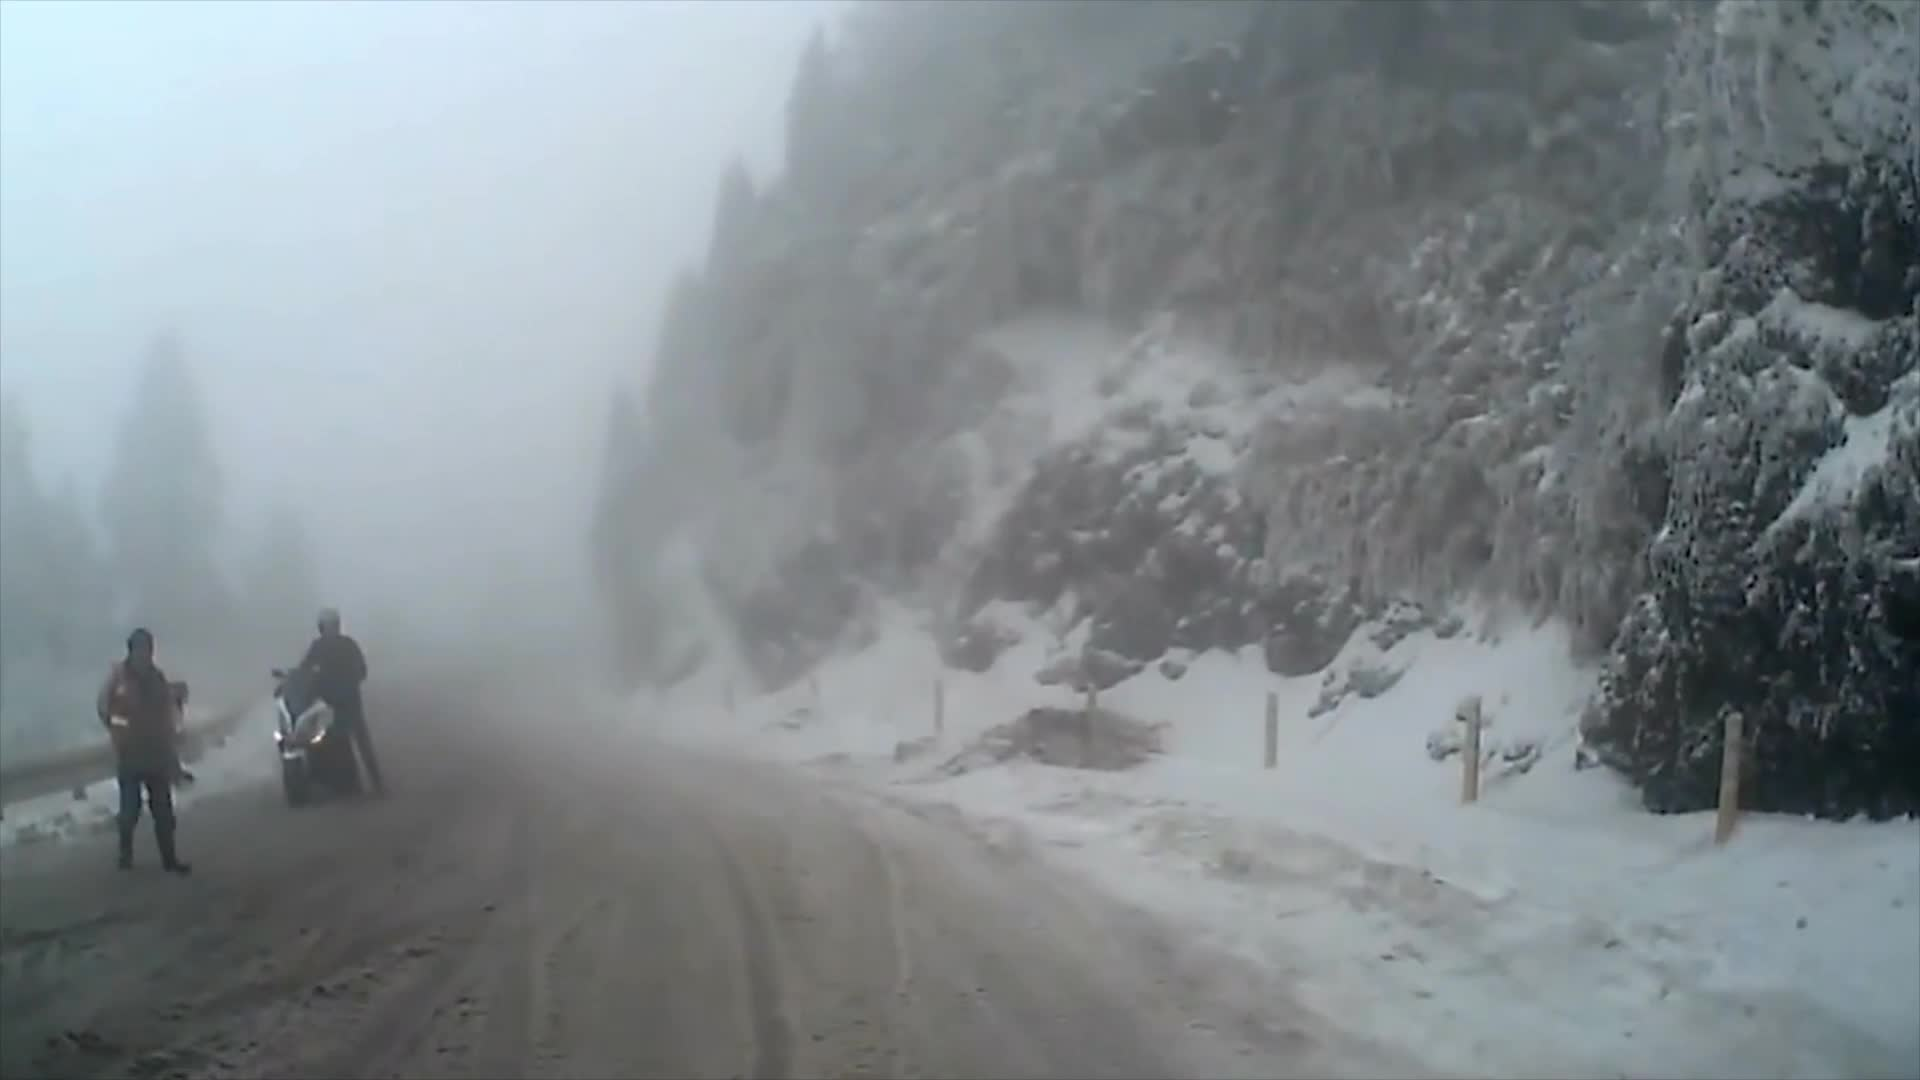pedestrian: (96, 629, 196, 877), (286, 608, 395, 811)
